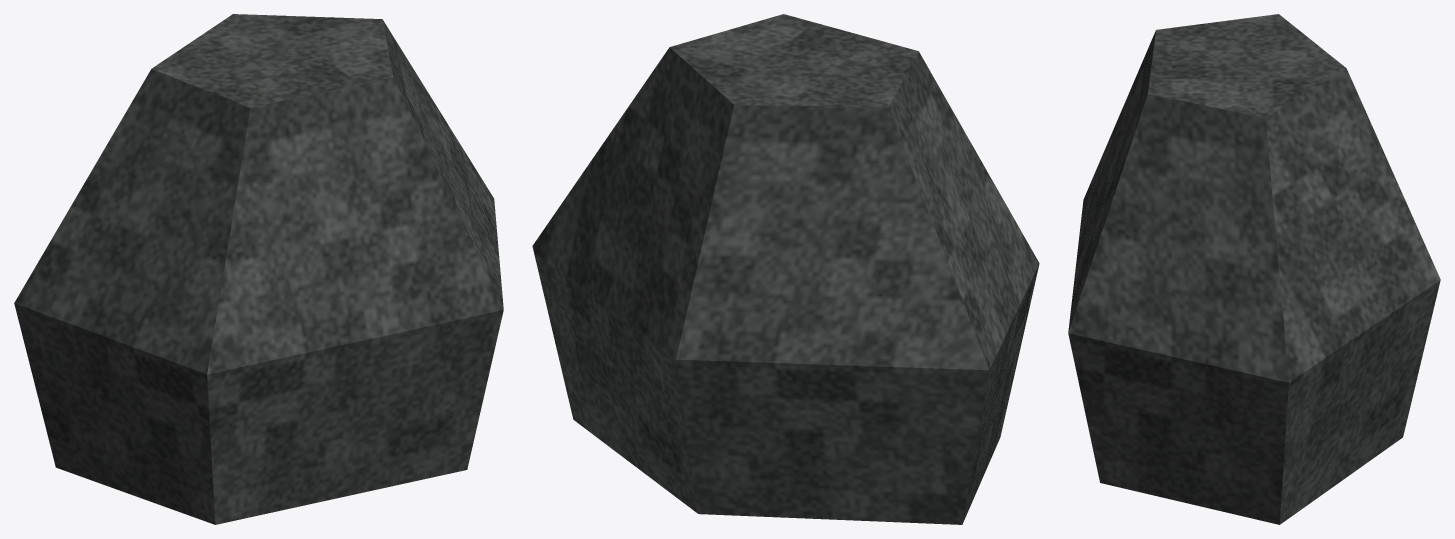
File: ENV_F_Rock.fbx
The picture shows the model from 3 angles, left to right: view 1: azimuth 30°, elevation 25°; view 2: azimuth 150°, elevation 25°; view 3: azimuth 270°, elevation 25°; orthographic projection. The views are drawn at different scales.
Visible parts, largest first — view 1: PH02_ENV_F_Rock; view 2: PH02_ENV_F_Rock; view 3: PH02_ENV_F_Rock.
Part boxes in pixels (box(x1,y1,x2,y2)): PH02_ENV_F_Rock: box(14, 14, 503, 524); PH02_ENV_F_Rock: box(532, 14, 1039, 524); PH02_ENV_F_Rock: box(1068, 14, 1440, 524).
Size of the model in its own units: 190 by 150 by 138.
Materials: 1 (1 with a texture image).
